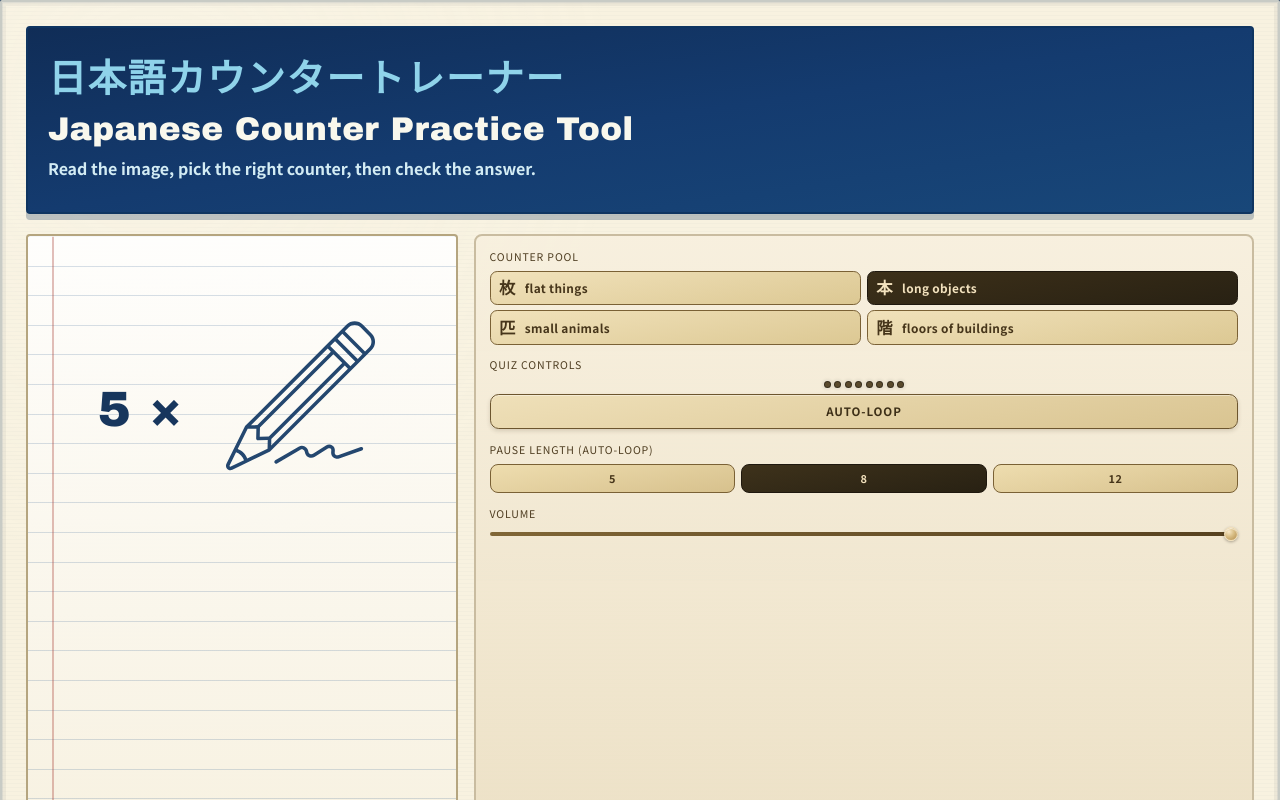
Test: JapaneseCounterPracticeToolPage › shows countdown led count based on selected pause length
Click the button "12".
click(1115, 478)  # box [992,464,1238,493]
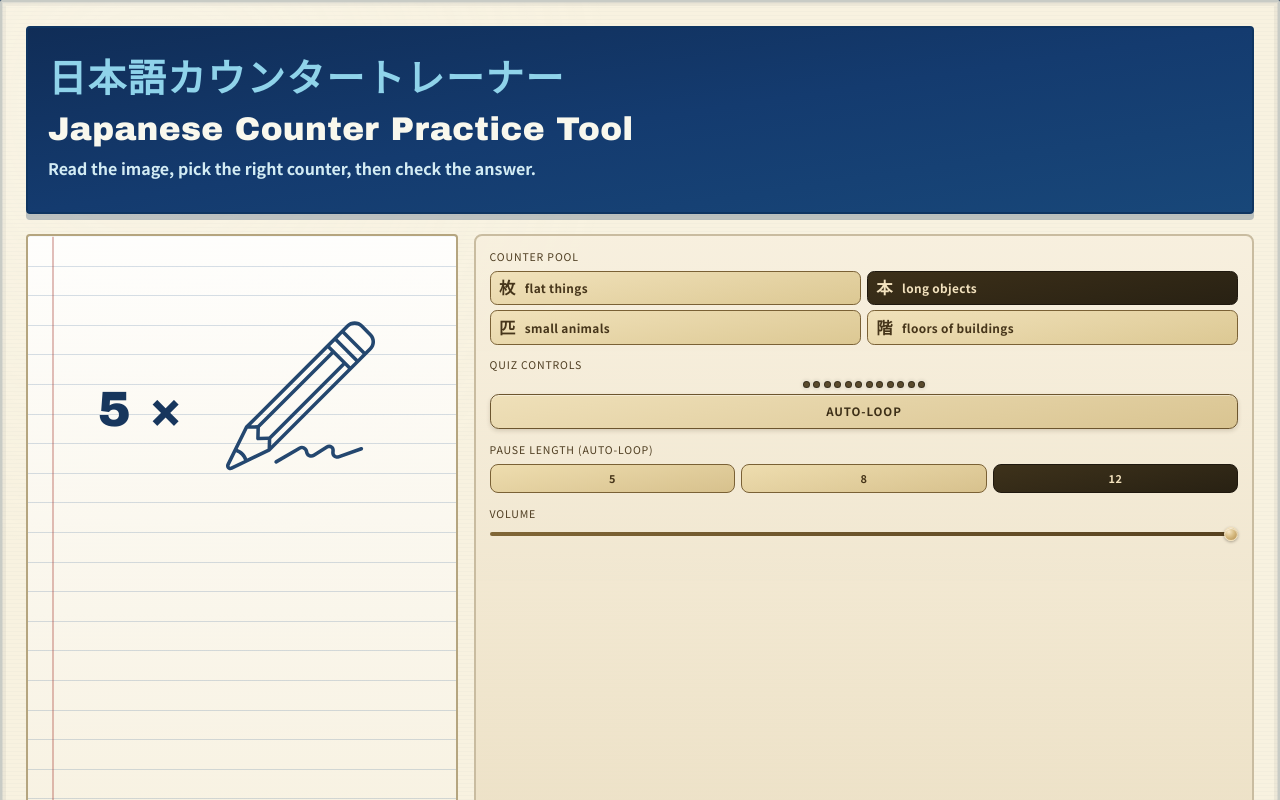
Expected: the number of elements with test id "auto-loop-countdown-led" is 12
Click the button "5".
click(613, 478)  # box [490,464,736,493]
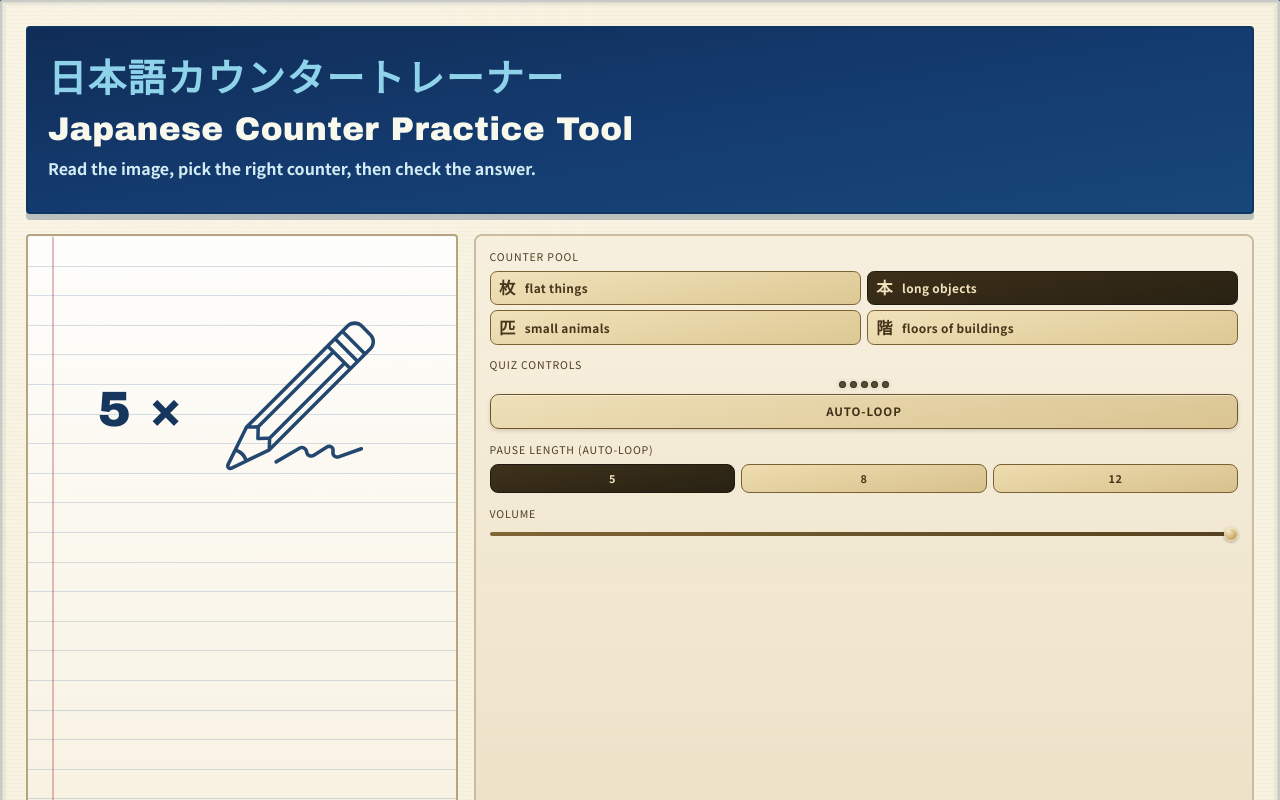
Expected: the number of elements with test id "auto-loop-countdown-led" is 5, [840,381,846,388]; [850,381,857,388]; [860,381,868,388]; [871,381,878,388]; [882,381,888,388]
